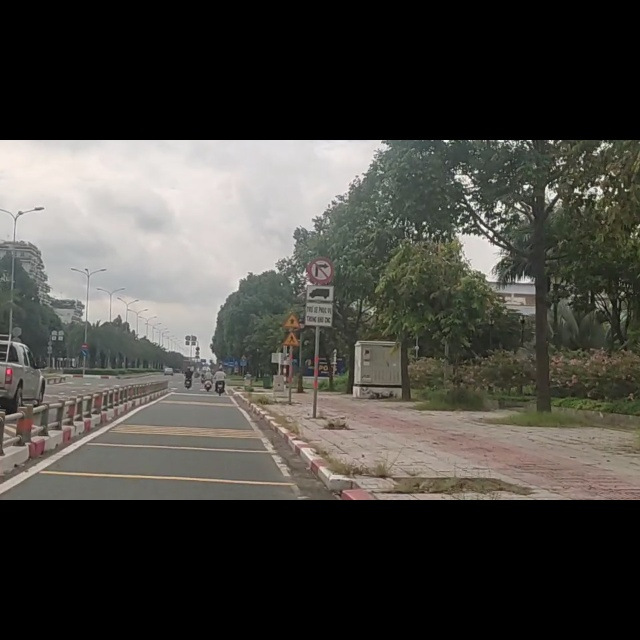bien_nguy_hiem: (305, 256, 334, 333), (306, 206, 334, 255), (283, 307, 301, 335), (283, 339, 301, 367)
